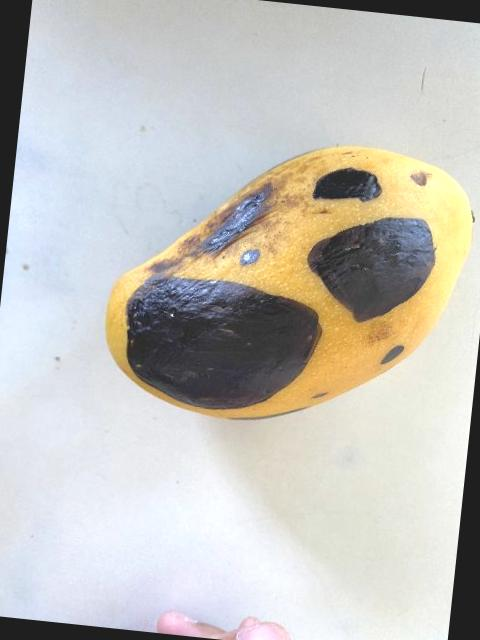Mango Overripe: (70, 71, 480, 457)
